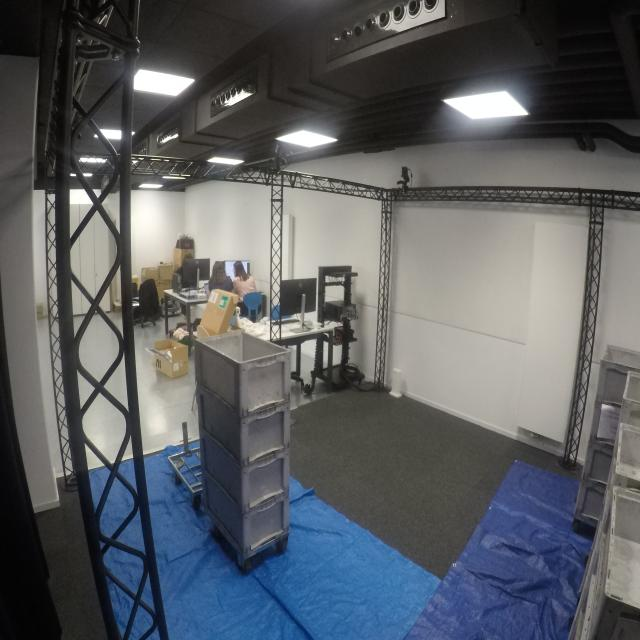Box4G: (194, 382, 296, 470), (198, 468, 294, 560), (193, 330, 293, 414), (197, 428, 293, 514)
